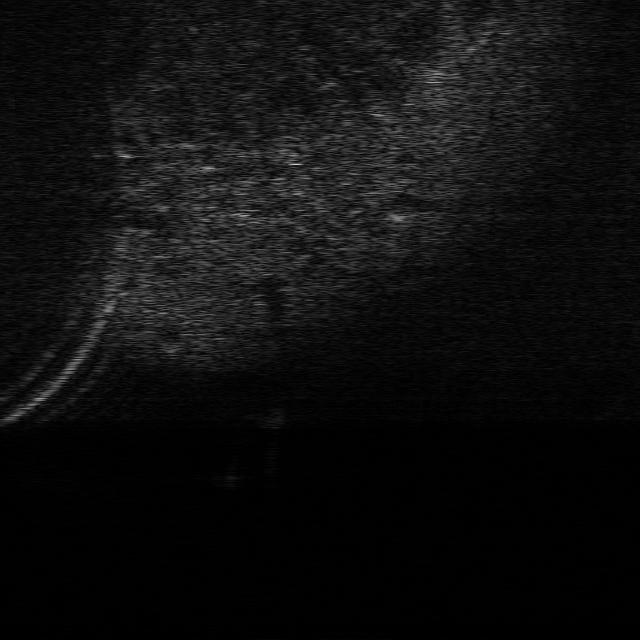cylinder: (260, 406, 286, 428)
